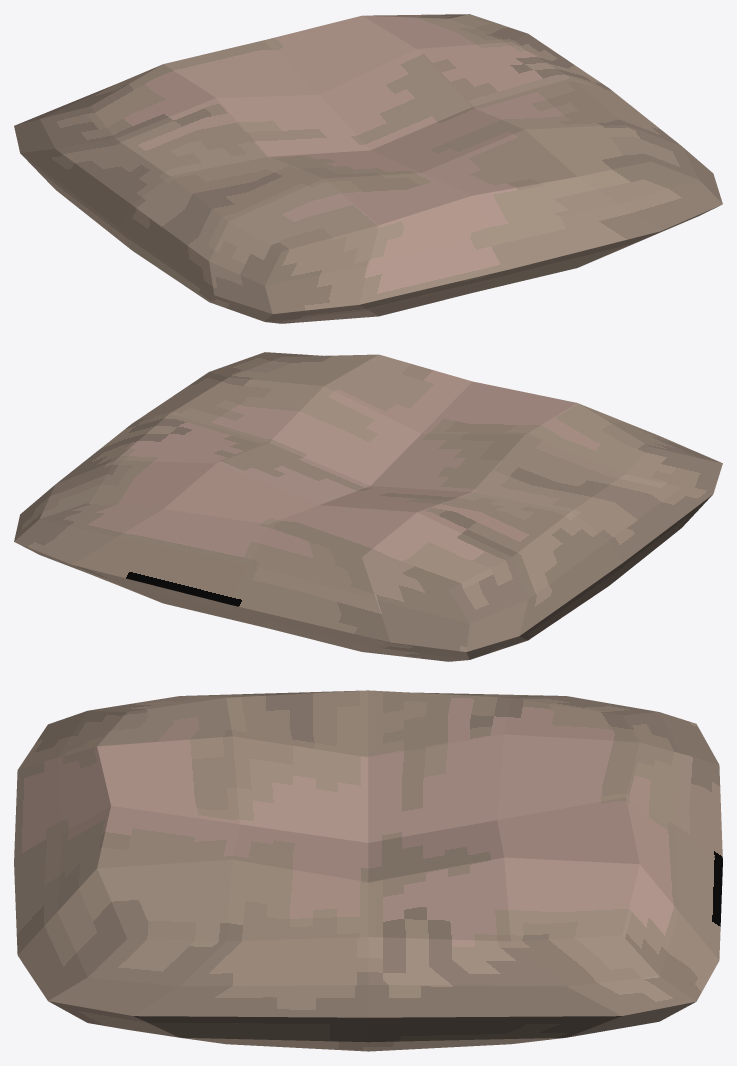
Rendered from Seat cushion1.fbx.
3 views of the same model, one above another, from view 1: azimuth 30°, elevation 25°; view 2: azimuth 150°, elevation 25°; view 3: azimuth 270°, elevation 25° (orthographic). The views are drawn at different scales.
Parts seen in each view (by area): view 1: Cube; view 2: Cube; view 3: Cube.
Boxes of the visible parts, x1,y1,x2,y2 form: Cube: [14, 14, 722, 323]; Cube: [14, 352, 722, 661]; Cube: [14, 690, 722, 1051].
Size of the model in its own units: 129 by 30.4 by 124.
1 material, 1 textured.
